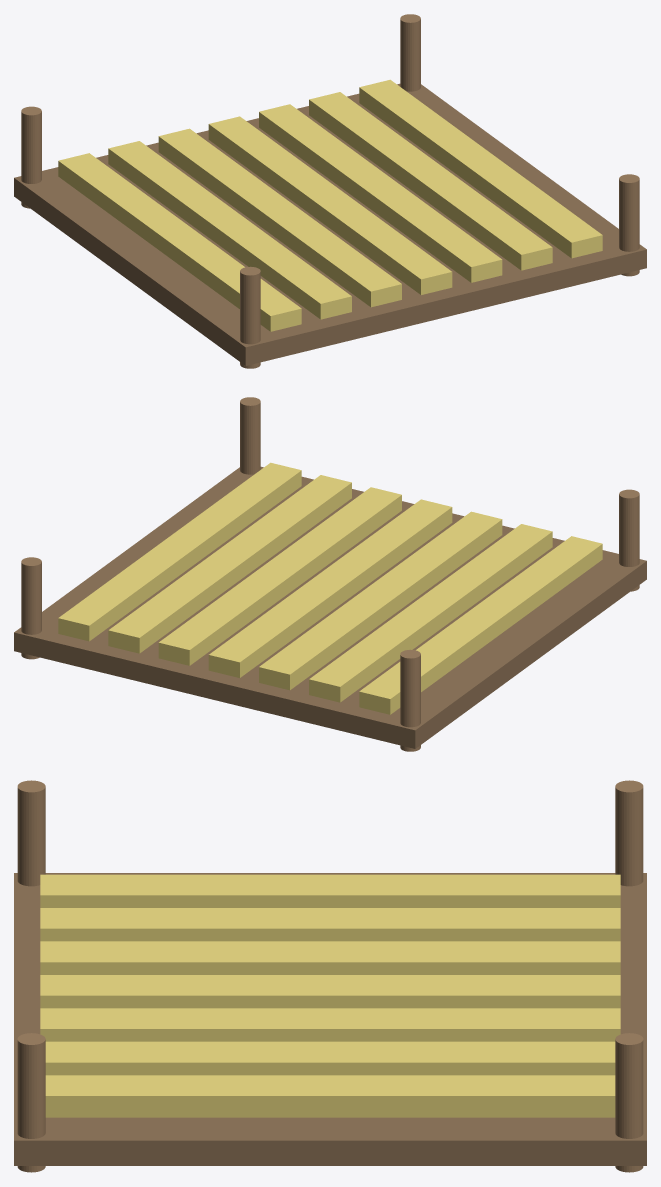
File: farm.glb
3 renders of one model, top to bottom at view 1: azimuth 30°, elevation 25°; view 2: azimuth 150°, elevation 25°; view 3: azimuth 270°, elevation 25°, orthographic. The views are drawn at different scales.
Visible parts, largest first — view 1: Cube, Cube.004, Cube.006, Cube.007, Cube.005, Cube.003, Cube.002, Cube.001, Cylinder, Cylinder.002, Cylinder.001, Cylinder.003; view 2: Cube, Cube.004, Cube.006, Cube.007, Cube.005, Cube.003, Cube.002, Cube.001, Cylinder.001, Cylinder.003, Cylinder, Cylinder.002; view 3: Cube, Cube.007, Cube.006, Cube.001, Cube.002, Cube.003, Cube.004, Cube.005, Cylinder.002, Cylinder.003, Cylinder, Cylinder.001.
Boxes of the visible parts, <box> form: Cube: <box>14,83,646,365</box>; Cube.004: <box>208,116,452,294</box>; Cube.006: <box>309,92,552,270</box>; Cube.007: <box>359,79,602,258</box>; Cube.005: <box>259,104,502,282</box>; Cube.003: <box>158,128,401,307</box>; Cube.002: <box>108,141,351,319</box>; Cube.001: <box>58,153,301,331</box>; Cylinder: <box>240,266,260,368</box>; Cylinder.002: <box>619,174,639,276</box>; Cylinder.001: <box>21,106,41,208</box>; Cylinder.003: <box>400,14,420,91</box>; Cube: <box>14,466,646,748</box>; Cube.004: <box>208,499,452,677</box>; Cube.006: <box>108,475,351,653</box>; Cube.007: <box>58,462,301,641</box>; Cube.005: <box>158,487,401,665</box>; Cube.003: <box>259,511,502,690</box>; Cube.002: <box>309,524,552,702</box>; Cube.001: <box>359,536,602,714</box>; Cylinder.001: <box>400,649,420,751</box>; Cylinder.003: <box>21,557,41,659</box>; Cylinder: <box>619,489,639,591</box>; Cylinder.002: <box>240,397,260,474</box>; Cube: <box>14,873,646,1165</box>; Cube.007: <box>45,1075,615,1117</box>; Cube.006: <box>45,1041,615,1075</box>; Cube.001: <box>40,874,620,907</box>; Cube.002: <box>40,908,620,941</box>; Cube.003: <box>40,941,620,974</box>; Cube.004: <box>40,975,620,1008</box>; Cube.005: <box>40,1008,620,1041</box>; Cylinder.002: <box>17,1033,45,1172</box>; Cylinder.003: <box>615,1033,643,1172</box>; Cylinder: <box>17,780,45,886</box>; Cylinder.001: <box>615,780,643,886</box>.
Bounding box in the file's own units: 3.6 × 0.8 × 3.6.
